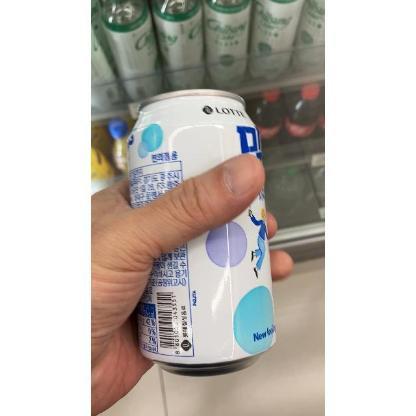Can: (125, 85, 279, 379)
